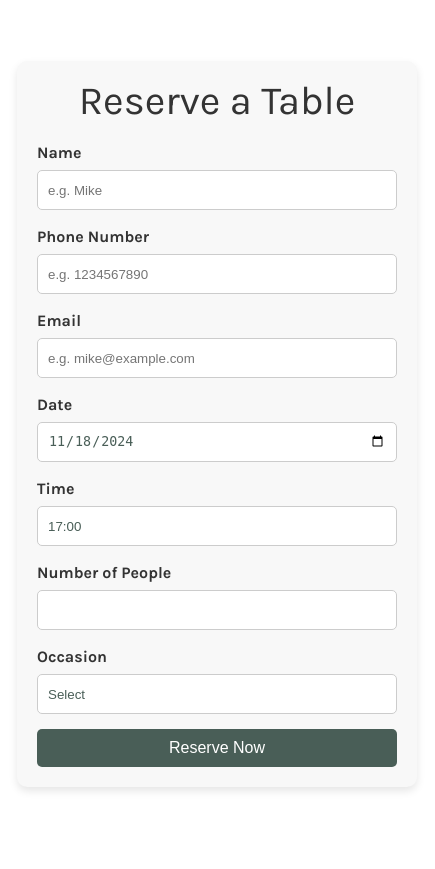
Form validation logic › shows error if name is too short
In the field labelled "Name": (217, 190) [37,170,397,210], type "Jo"
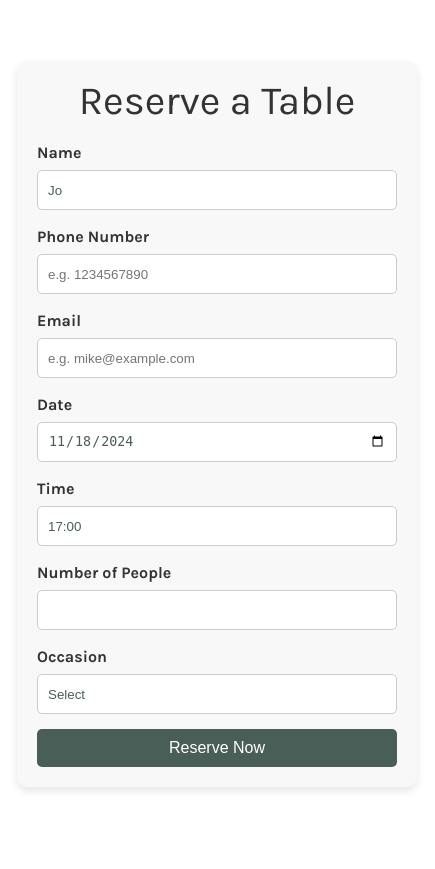
Click the button "Reserve Now": click(217, 748) [37,729,397,767]
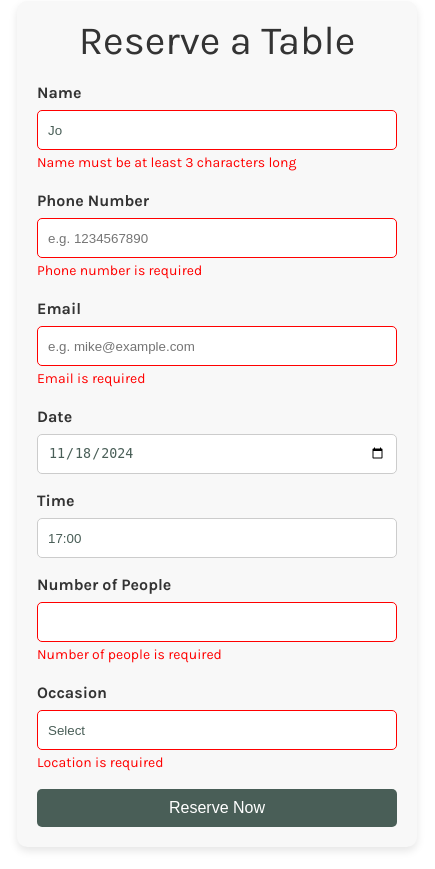
Expected: the text "Name must be at least 3 characters long" is shown, [37,154,296,171]
